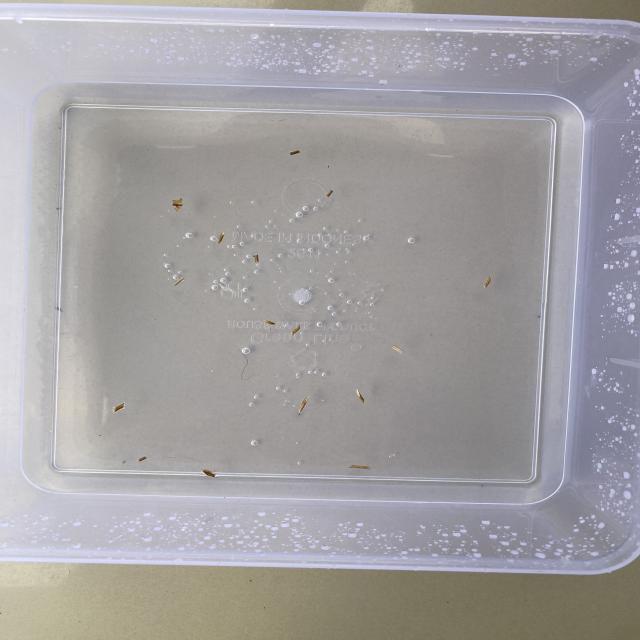Wereng: (386, 340, 410, 358), (259, 314, 284, 331), (294, 393, 312, 416), (345, 460, 374, 473), (198, 465, 222, 480), (480, 274, 500, 290), (354, 386, 368, 408), (212, 228, 228, 247), (170, 197, 187, 213), (250, 248, 264, 267), (288, 324, 306, 338), (287, 148, 307, 160), (323, 186, 338, 202), (172, 275, 188, 290), (112, 399, 127, 415), (134, 452, 152, 464)
